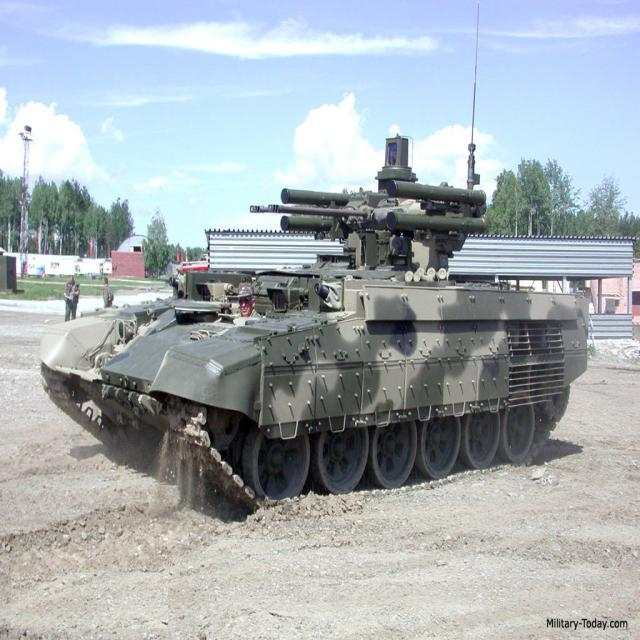Tank: (61, 157, 586, 490)
